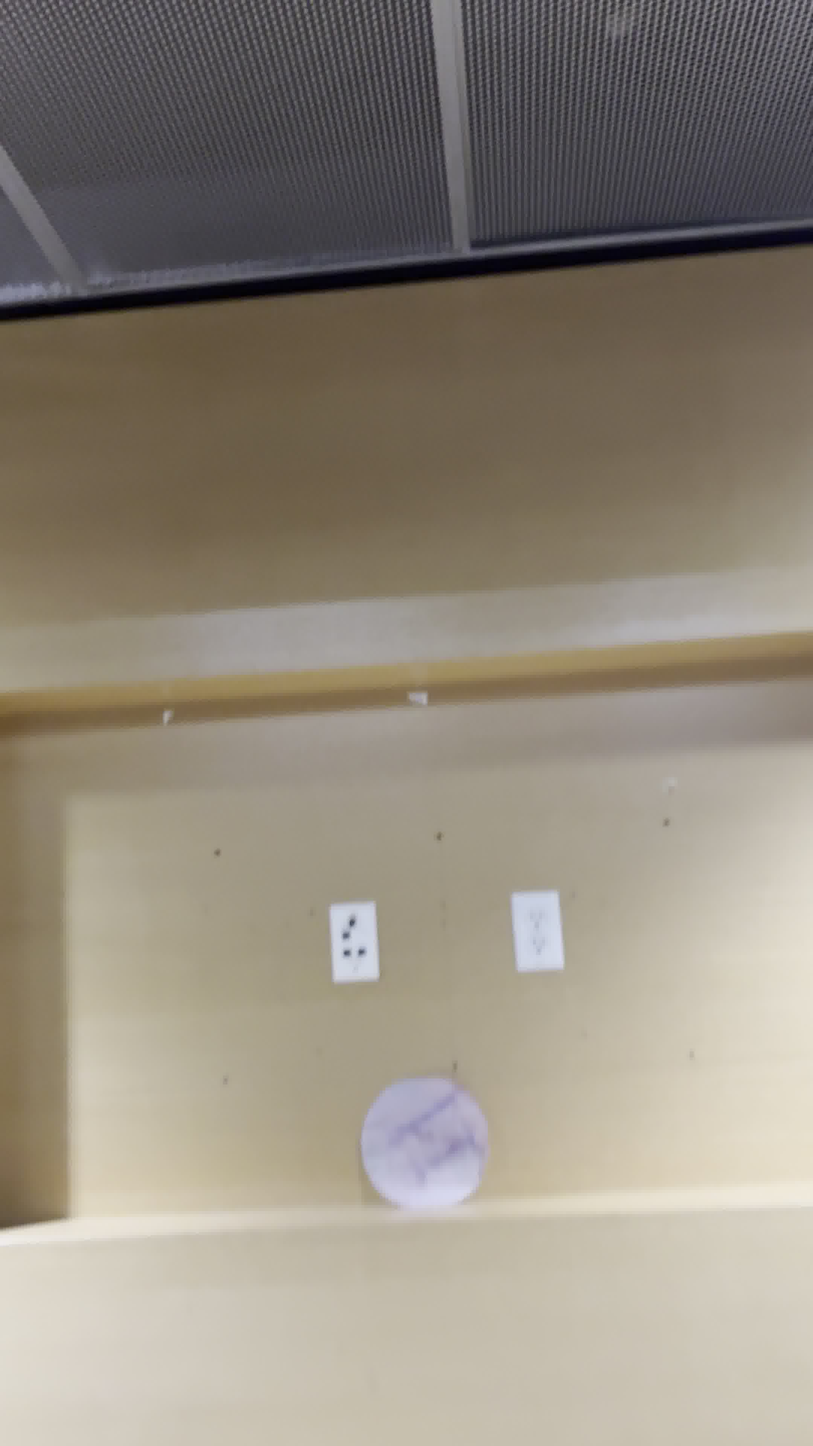Target: (356, 1088, 490, 1203)
